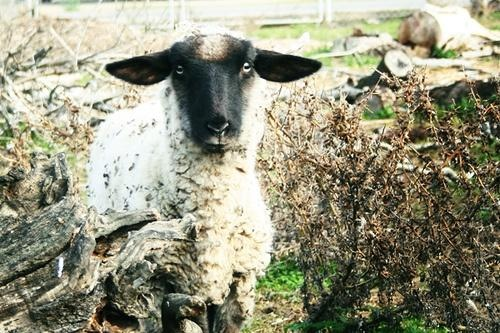sheep: (90, 26, 323, 330)
